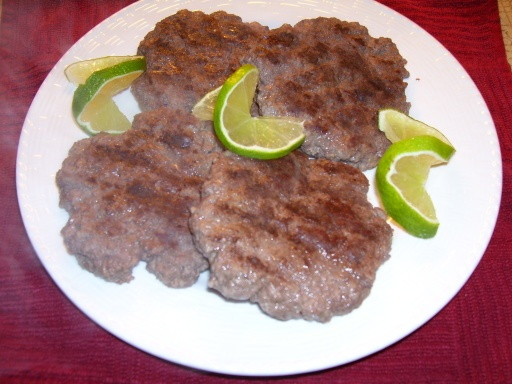background: (44, 5, 365, 193)
